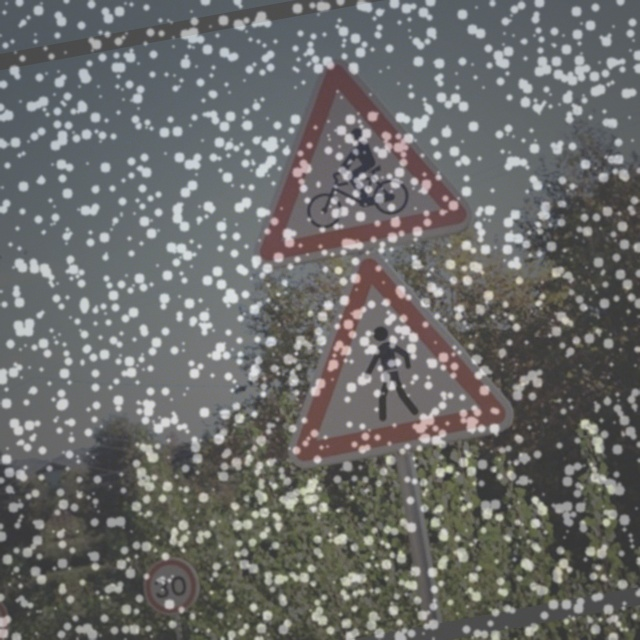Cycle_Crossing: (229, 36, 478, 267)
